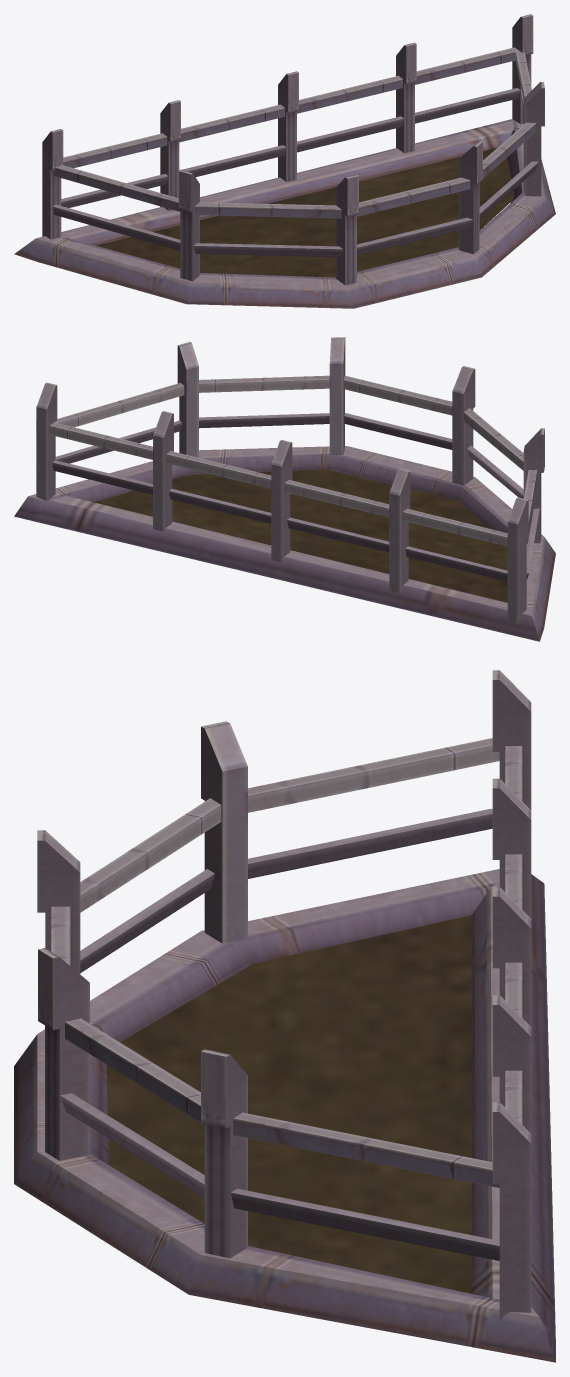
The model's file is zc_lekesigang_langan01.FBX.
3 views of the same model, one above another, from view 1: azimuth 30°, elevation 25°; view 2: azimuth 150°, elevation 25°; view 3: azimuth 270°, elevation 25° (orthographic). The views are drawn at different scales.
Visible parts, largest first — view 1: zc_lekesigang_langan01; view 2: zc_lekesigang_langan01; view 3: zc_lekesigang_langan01.
Part boxes in pixels (x1,y1,x2,y2): zc_lekesigang_langan01: (14,14,555,308); zc_lekesigang_langan01: (14,337,555,641); zc_lekesigang_langan01: (14,670,555,1362).
Size of the model in its own units: 471 by 108 by 225.
1 material, 1 textured.
